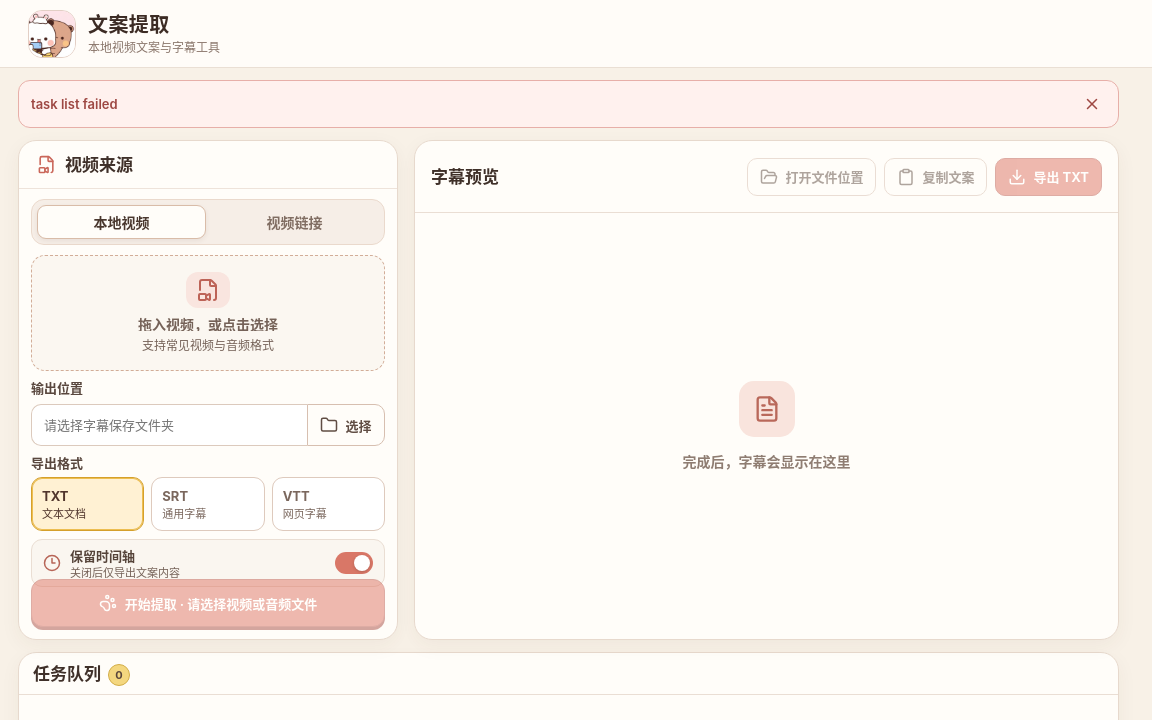
Test: App › keeps extraction available when loading the task list fails
Expected: the text "task list failed" is shown, [31,96,118,112]
What coordinates should you click on to do the following:
click the button with test id "media-drop-zone"
I would click on:
 (208, 313)
Its box is [31,255,385,371].
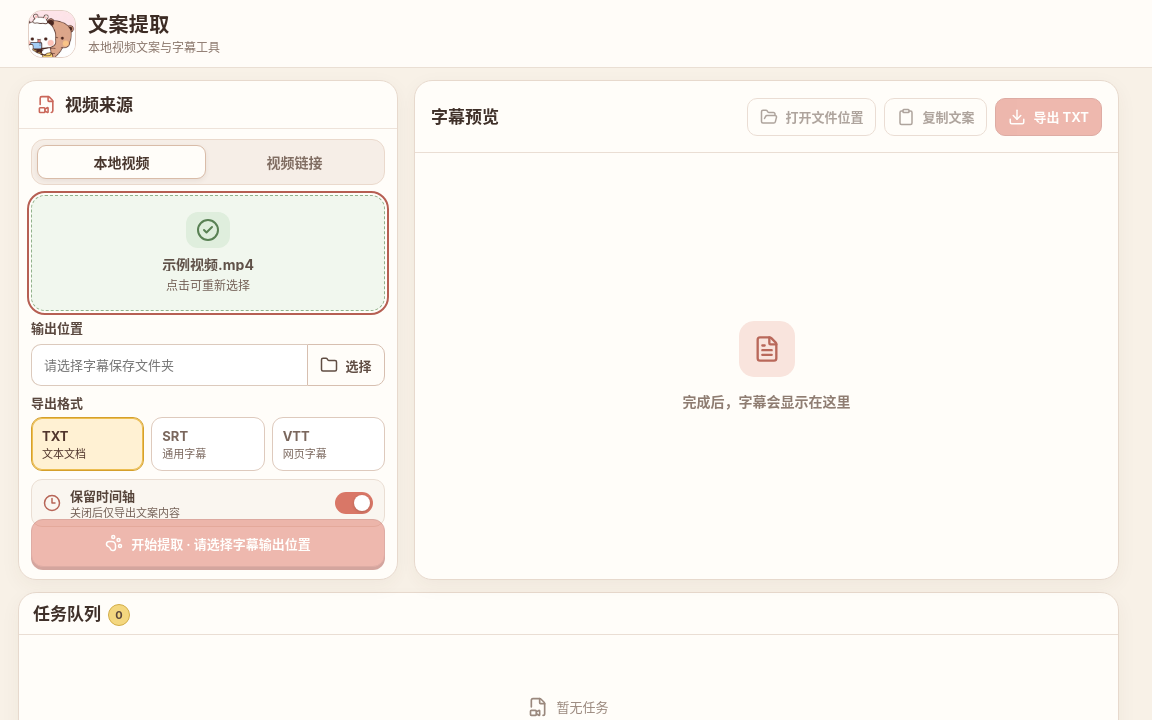
What coordinates should you click on to do the following:
click the button "选择"
I would click on:
 (346, 365)
Its box is [307,344,385,386].
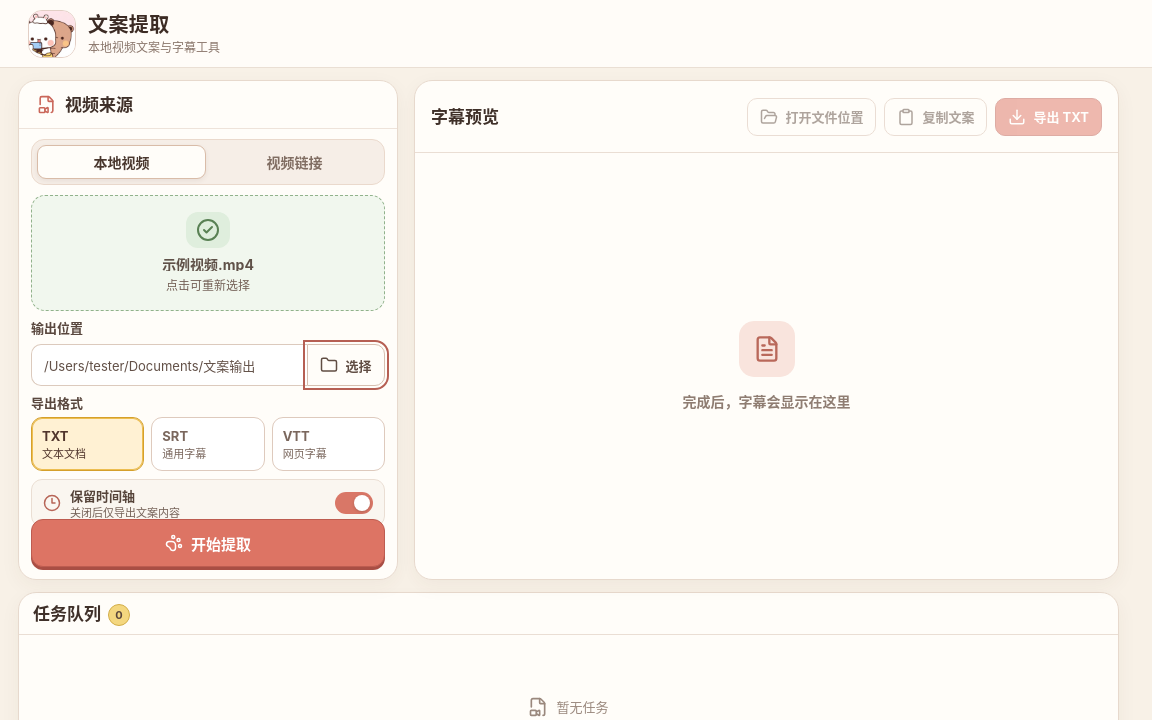
Now the button "开始提取" is enabled, box [31,519,385,567]
